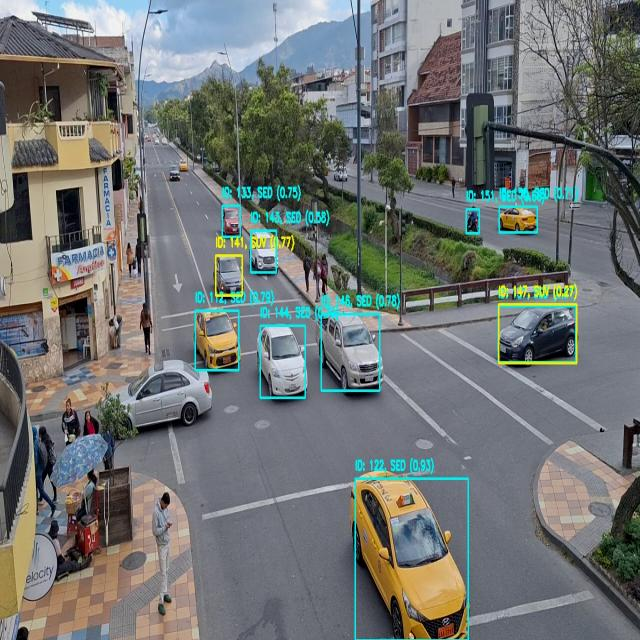CMT: (317, 313, 382, 389), (221, 204, 240, 234)
MOTORCYCLE: (468, 208, 482, 235)
SED: (354, 474, 470, 640), (120, 361, 212, 428), (497, 308, 576, 366), (260, 326, 309, 397), (195, 310, 240, 370), (218, 255, 245, 296), (501, 207, 538, 232)
SUV: (250, 230, 276, 272)
